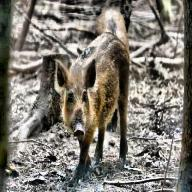boar: (61, 5, 139, 173)
